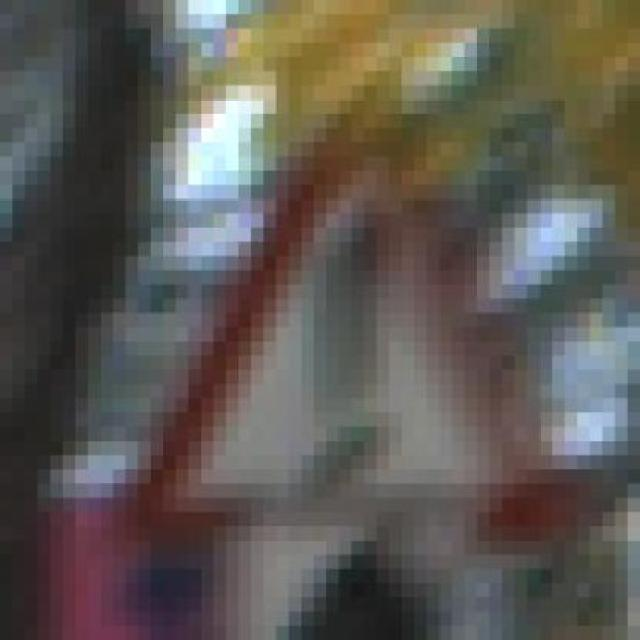Attention Please-: (100, 128, 540, 569)
